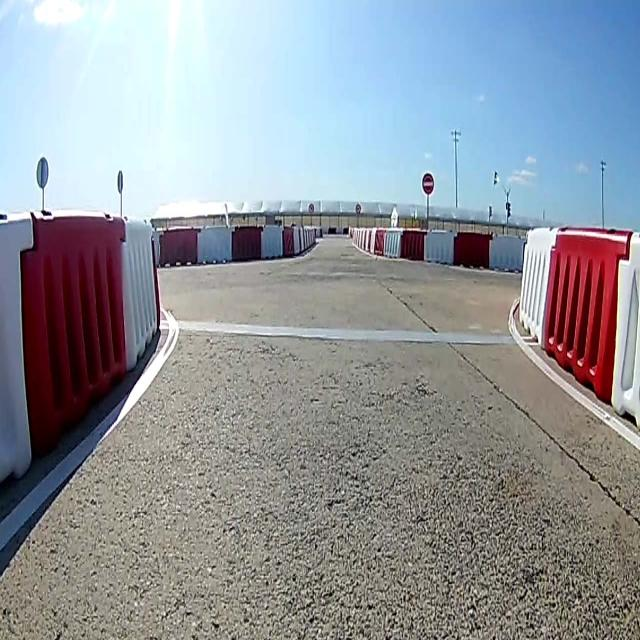girisyok: (422, 172, 434, 195)
